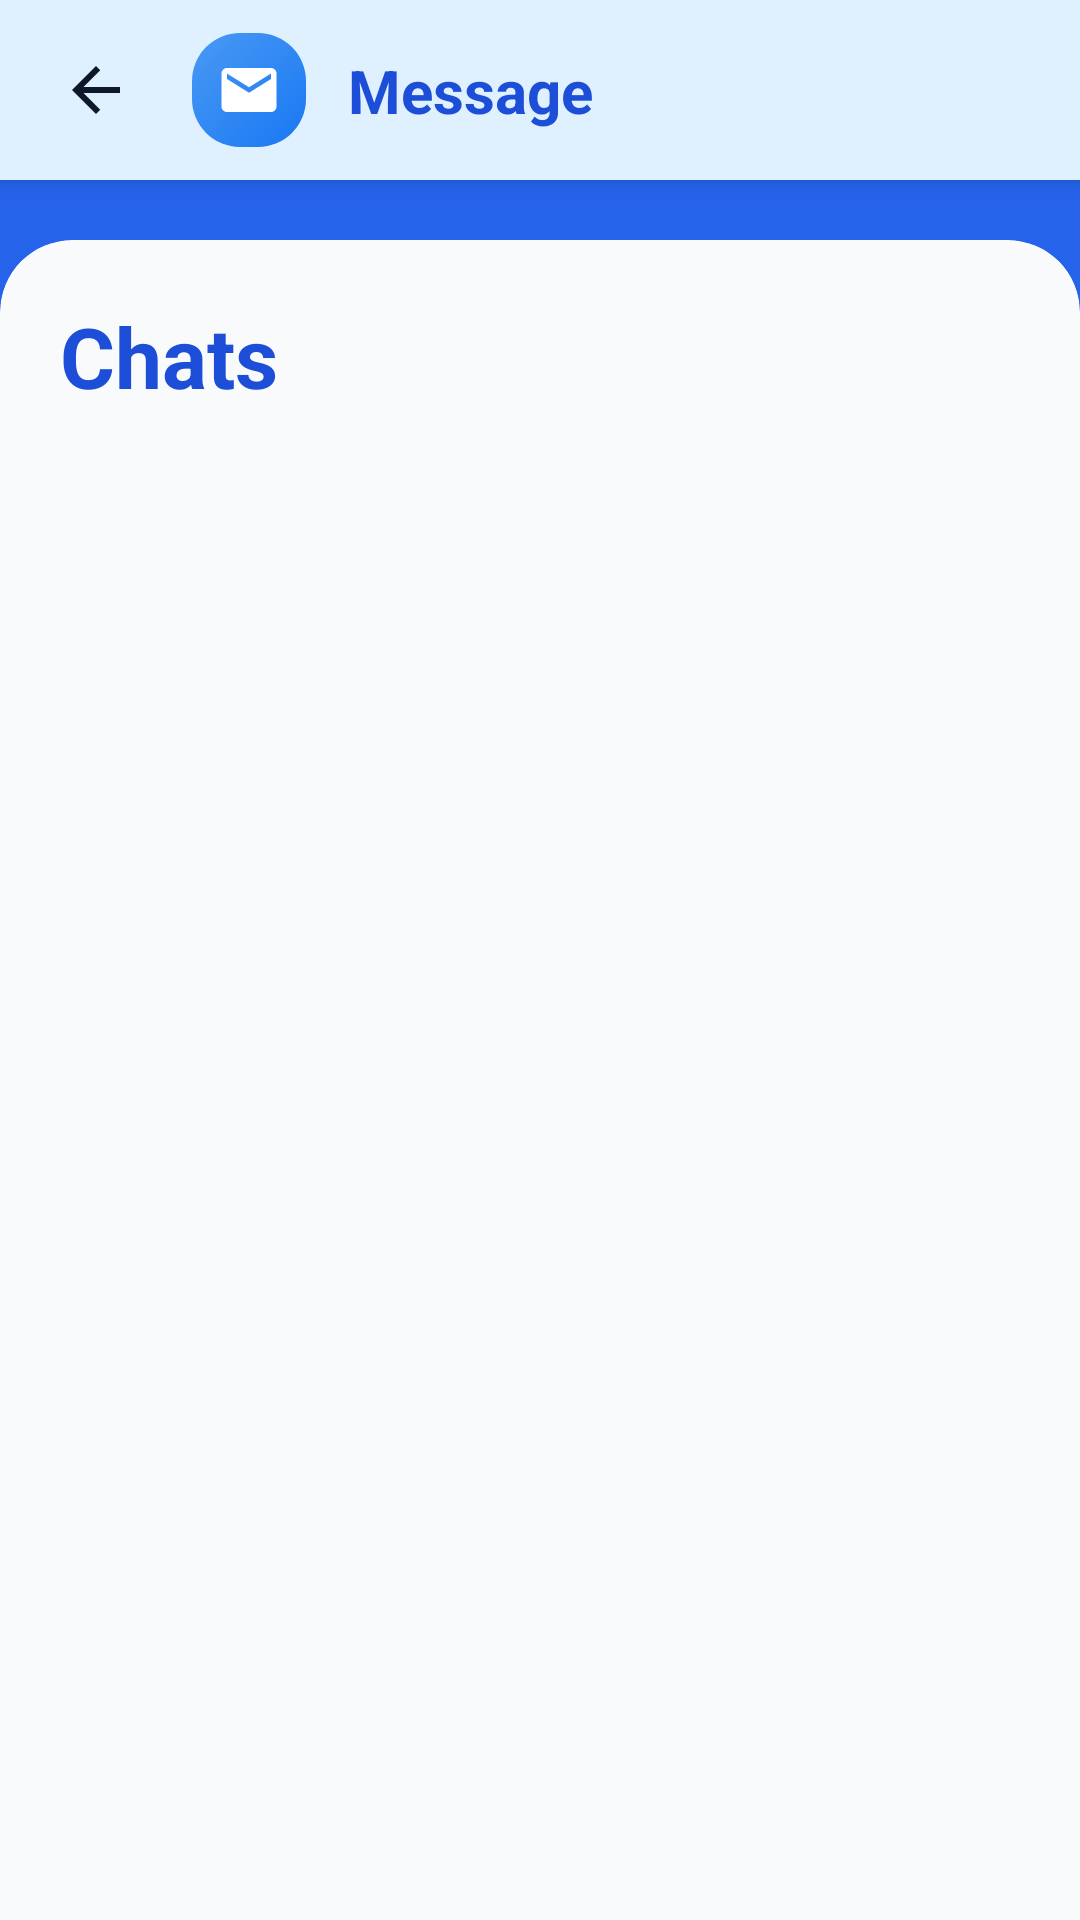

Icon click points for this 1080px×1920px phone screenshot, format (x=x, y=y):
Back: (x=96, y=90)
